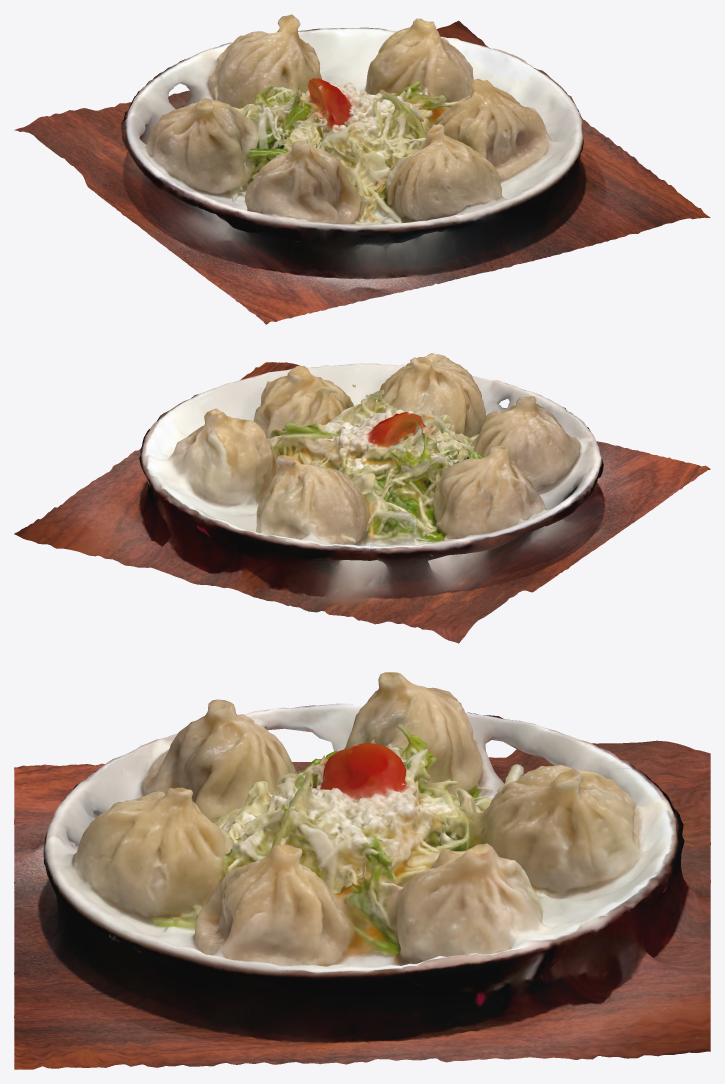
File: momo_food.glb
The picture shows the model from 3 angles, top to bottom: view 1: azimuth 30°, elevation 25°; view 2: azimuth 150°, elevation 25°; view 3: azimuth 270°, elevation 25°; orthographic projection. The views are drawn at different scales.
Parts seen in each view (by area): view 1: 3Ddata_0; view 2: 3Ddata_0; view 3: 3Ddata_0.
Part boxes in pixels (x1,y1,x2,y2): 3Ddata_0: (14, 14, 710, 324); 3Ddata_0: (14, 353, 710, 643); 3Ddata_0: (14, 672, 710, 1069).
Bounding box in the file's own units: 0.2403 × 0.056 × 0.2359.
1 material, 1 textured.
